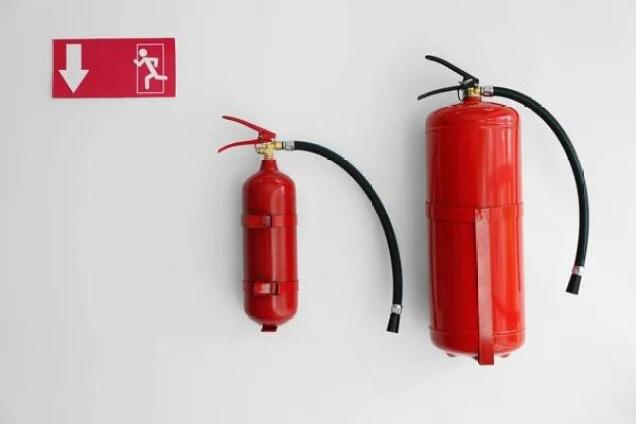APAR: (416, 55, 526, 365), (218, 115, 299, 332)
